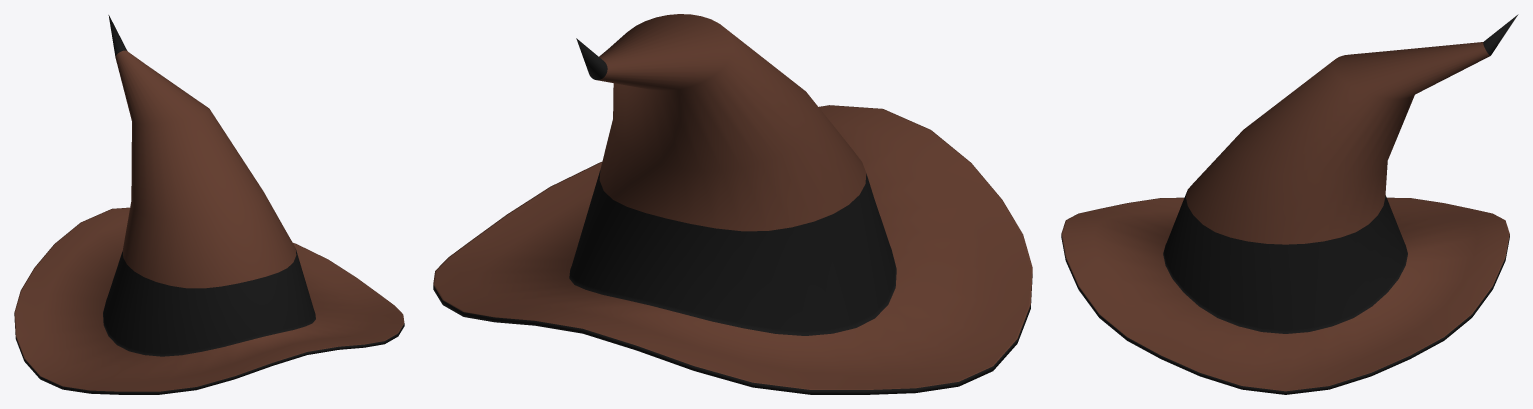
Rendered from Head_Wizard.fbx.
The picture shows the model from 3 angles, left to right: view 1: azimuth 30°, elevation 25°; view 2: azimuth 150°, elevation 25°; view 3: azimuth 270°, elevation 25°; orthographic projection. The views are drawn at different scales.
Visible parts, largest first — view 1: Head_WizardHat; view 2: Head_WizardHat; view 3: Head_WizardHat.
Boxes of the visible parts, box(x1,y1,x2,y2) form: Head_WizardHat: box(14, 15, 404, 394); Head_WizardHat: box(433, 14, 1032, 394); Head_WizardHat: box(1061, 14, 1518, 394).
Bounding box in the file's own units: 160 × 113 × 163.
